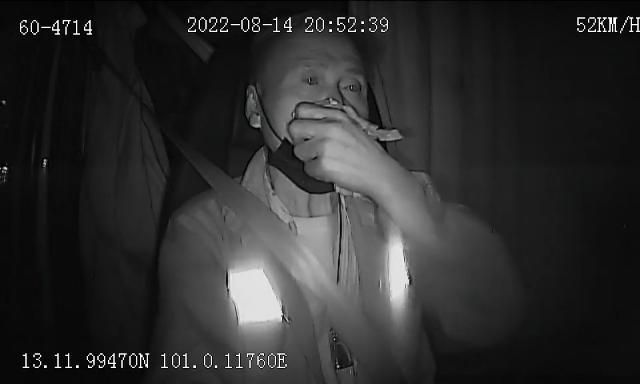SafeDriving: (296, 64, 327, 88)
Seatbelt: (189, 156, 359, 384)
